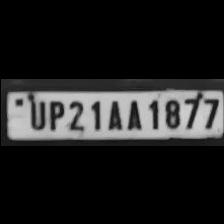1: (84, 97, 104, 131), (143, 96, 161, 130)
2: (63, 97, 85, 131)
7: (198, 95, 220, 129), (181, 95, 199, 129)
8: (160, 96, 182, 128)
A: (103, 96, 123, 130), (122, 96, 142, 130)
P: (44, 96, 64, 130)
U: (24, 96, 46, 130)
